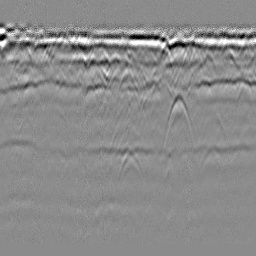cavity: (118, 63, 139, 96)
